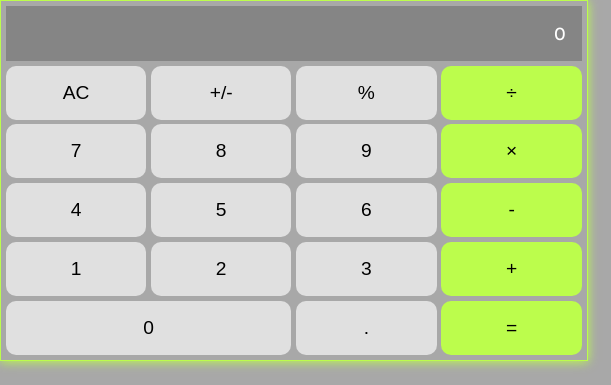
Tests for Calculator component › Simulate user pressing the minus operator to display '-'
Click the button "-" at (512, 210), box [441,183,582,237]
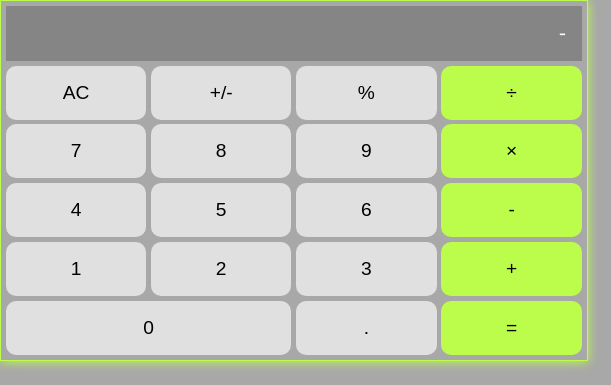
expect the text with class "display" reads "-": met, box [559,22,566,45]
